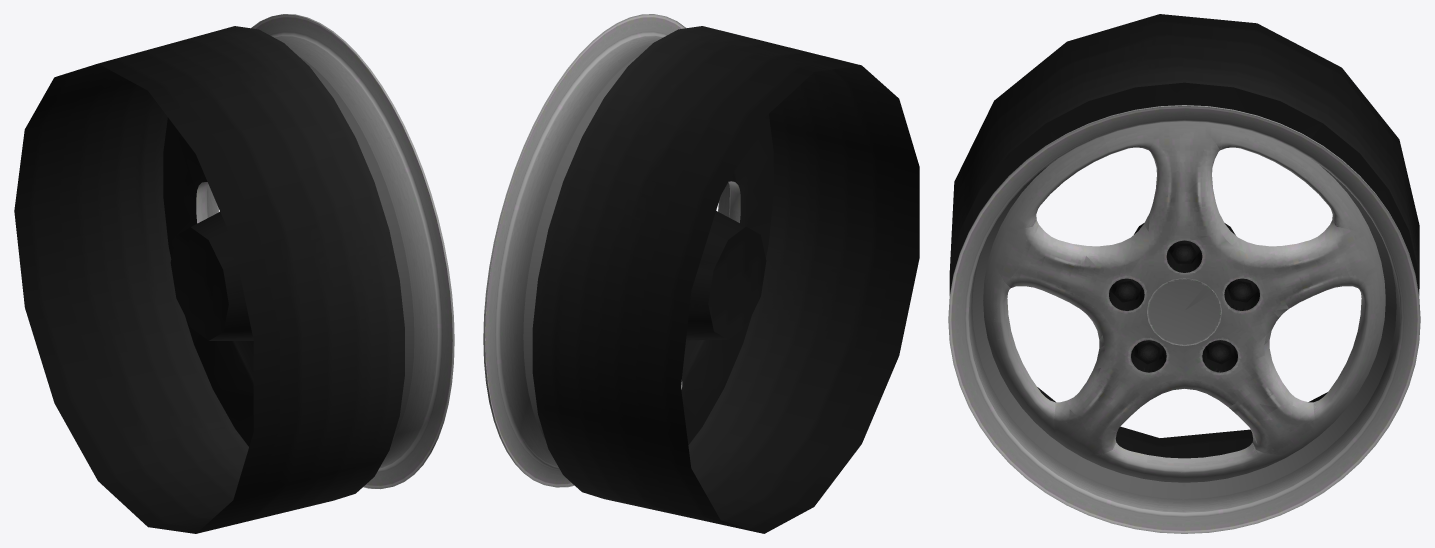
Rendered from wheel57.fbx.
The picture shows the model from 3 angles, left to right: view 1: azimuth 30°, elevation 25°; view 2: azimuth 150°, elevation 25°; view 3: azimuth 270°, elevation 25°; orthographic projection. The views are drawn at different scales.
Parts seen in each view (by area): view 1: gem_lemans_wheel_wheel_inner_rim_, wheel_rim; view 2: gem_lemans_wheel_wheel_inner_rim_, wheel_rim; view 3: wheel_rim, gem_lemans_wheel_wheel_rim_, gem_lemans_wheel_wheel_inner_rim_.
Boxes of the visible parts, x1,y1,x2,y2 form: gem_lemans_wheel_wheel_inner_rim_: [14, 26, 404, 533]; wheel_rim: [196, 14, 454, 489]; gem_lemans_wheel_wheel_inner_rim_: [532, 26, 919, 533]; wheel_rim: [483, 14, 740, 487]; wheel_rim: [948, 105, 1420, 533]; gem_lemans_wheel_wheel_rim_: [987, 122, 1411, 477]; gem_lemans_wheel_wheel_inner_rim_: [949, 14, 1419, 458].
Size of the model in its own units: 0.2209 by 0.4699 by 0.4699.
Materials: 1 (1 with a texture image).
